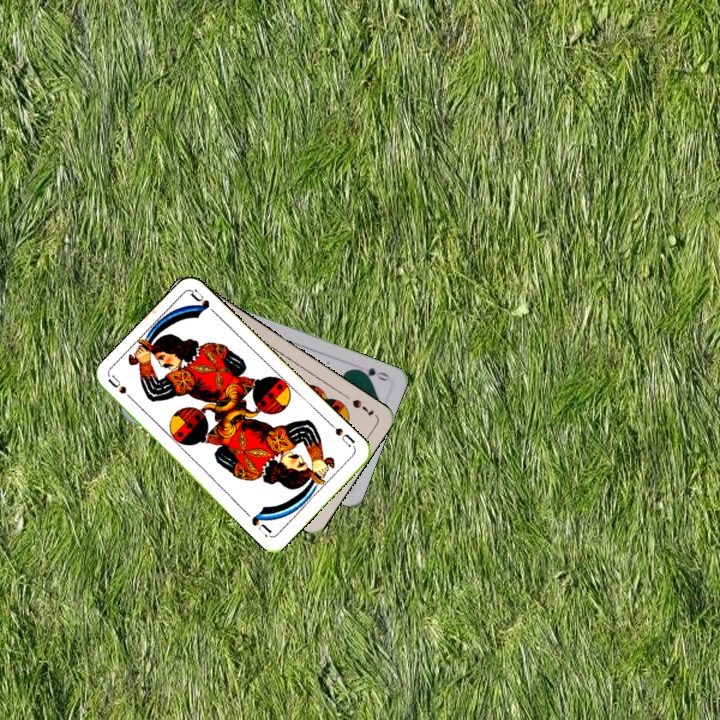GO: (352, 363, 392, 384)
S7: (348, 395, 376, 419)
SU: (105, 372, 139, 406), (325, 419, 358, 450)
